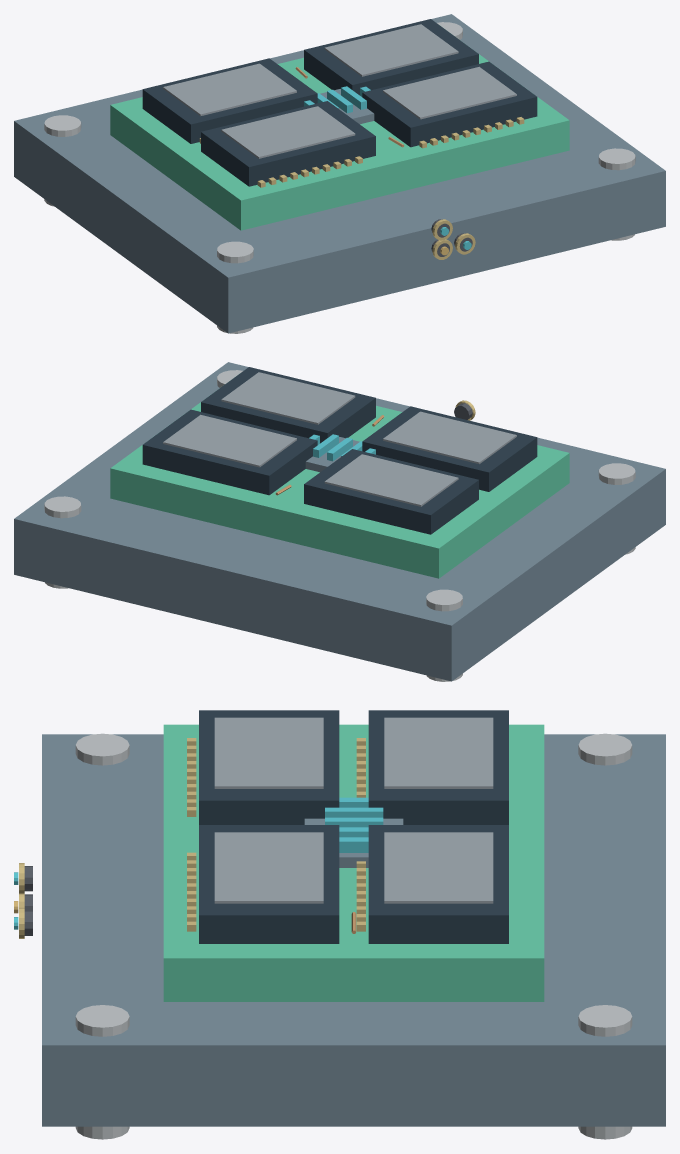
File: 06_L82_FourChipletMissionComputerEUT.glb
3 renders of one model, top to bottom at view 1: azimuth 30°, elevation 25°; view 2: azimuth 150°, elevation 25°; view 3: azimuth 270°, elevation 25°, orthographic. The views are drawn at different scales.
Visible parts, largest first — view 1: FourChipletMissionComputerEUT_Node_0000, FourChipletMissionComputerEUT_Node_0001, FourChipletMissionComputerEUT_Node_0026, FourChipletMissionComputerEUT_Node_0038, FourChipletMissionComputerEUT_Node_0002, FourChipletMissionComputerEUT_Node_0014, FourChipletMissionComputerEUT_Node_0015, FourChipletMissionComputerEUT_Node_0027, FourChipletMissionComputerEUT_Node_0003, FourChipletMissionComputerEUT_Node_0039, FourChipletMissionComputerEUT_Node_0072, FourChipletMissionComputerEUT_Node_0074 (+1 smaller); view 2: FourChipletMissionComputerEUT_Node_0000, FourChipletMissionComputerEUT_Node_0001, FourChipletMissionComputerEUT_Node_0002, FourChipletMissionComputerEUT_Node_0014, FourChipletMissionComputerEUT_Node_0026, FourChipletMissionComputerEUT_Node_0038, FourChipletMissionComputerEUT_Node_0003, FourChipletMissionComputerEUT_Node_0039, FourChipletMissionComputerEUT_Node_0027, FourChipletMissionComputerEUT_Node_0015, FourChipletMissionComputerEUT_Node_0071, FourChipletMissionComputerEUT_Node_0073 (+1 smaller); view 3: FourChipletMissionComputerEUT_Node_0000, FourChipletMissionComputerEUT_Node_0001, FourChipletMissionComputerEUT_Node_0014, FourChipletMissionComputerEUT_Node_0038, FourChipletMissionComputerEUT_Node_0002, FourChipletMissionComputerEUT_Node_0026, FourChipletMissionComputerEUT_Node_0015, FourChipletMissionComputerEUT_Node_0039, FourChipletMissionComputerEUT_Node_0003, FourChipletMissionComputerEUT_Node_0027, FourChipletMissionComputerEUT_Node_0074, FourChipletMissionComputerEUT_Node_0073 (+4 smaller).
Boxes of the visible parts, bbox=[...] form: FourChipletMissionComputerEUT_Node_0000: bbox=[14, 14, 665, 333]; FourChipletMissionComputerEUT_Node_0001: bbox=[110, 54, 569, 230]; FourChipletMissionComputerEUT_Node_0026: bbox=[201, 101, 375, 186]; FourChipletMissionComputerEUT_Node_0038: bbox=[362, 61, 537, 147]; FourChipletMissionComputerEUT_Node_0002: bbox=[142, 58, 317, 143]; FourChipletMissionComputerEUT_Node_0014: bbox=[304, 19, 478, 95]; FourChipletMissionComputerEUT_Node_0015: bbox=[324, 24, 458, 76]; FourChipletMissionComputerEUT_Node_0027: bbox=[221, 106, 355, 158]; FourChipletMissionComputerEUT_Node_0003: bbox=[163, 63, 296, 116]; FourChipletMissionComputerEUT_Node_0039: bbox=[383, 66, 516, 119]; FourChipletMissionComputerEUT_Node_0072: bbox=[217, 241, 253, 333]; FourChipletMissionComputerEUT_Node_0074: bbox=[598, 148, 635, 240]; FourChipletMissionComputerEUT_Node_0000: bbox=[14, 362, 665, 681]; FourChipletMissionComputerEUT_Node_0001: bbox=[110, 402, 569, 578]; FourChipletMissionComputerEUT_Node_0002: bbox=[304, 449, 478, 534]; FourChipletMissionComputerEUT_Node_0014: bbox=[142, 409, 317, 495]; FourChipletMissionComputerEUT_Node_0026: bbox=[362, 406, 537, 491]; FourChipletMissionComputerEUT_Node_0038: bbox=[201, 367, 375, 443]; FourChipletMissionComputerEUT_Node_0003: bbox=[324, 454, 458, 506]; FourChipletMissionComputerEUT_Node_0039: bbox=[221, 372, 355, 424]; FourChipletMissionComputerEUT_Node_0027: bbox=[383, 411, 516, 464]; FourChipletMissionComputerEUT_Node_0015: bbox=[163, 414, 296, 467]; FourChipletMissionComputerEUT_Node_0071: bbox=[426, 589, 462, 681]; FourChipletMissionComputerEUT_Node_0073: bbox=[44, 496, 81, 588]; FourChipletMissionComputerEUT_Node_0000: bbox=[42, 734, 665, 1126]; FourChipletMissionComputerEUT_Node_0001: bbox=[163, 724, 544, 1001]; FourChipletMissionComputerEUT_Node_0014: bbox=[368, 825, 508, 943]; FourChipletMissionComputerEUT_Node_0038: bbox=[199, 825, 339, 943]; FourChipletMissionComputerEUT_Node_0002: bbox=[368, 710, 508, 824]; FourChipletMissionComputerEUT_Node_0026: bbox=[199, 710, 339, 824]; FourChipletMissionComputerEUT_Node_0015: bbox=[384, 832, 493, 903]; FourChipletMissionComputerEUT_Node_0039: bbox=[214, 832, 323, 903]; FourChipletMissionComputerEUT_Node_0003: bbox=[384, 717, 493, 788]; FourChipletMissionComputerEUT_Node_0027: bbox=[214, 717, 323, 788]; FourChipletMissionComputerEUT_Node_0074: bbox=[75, 1005, 129, 1139]; FourChipletMissionComputerEUT_Node_0073: bbox=[578, 1005, 632, 1139].
Size of the model in its own units: 3.28 by 0.9007 by 2.9.
